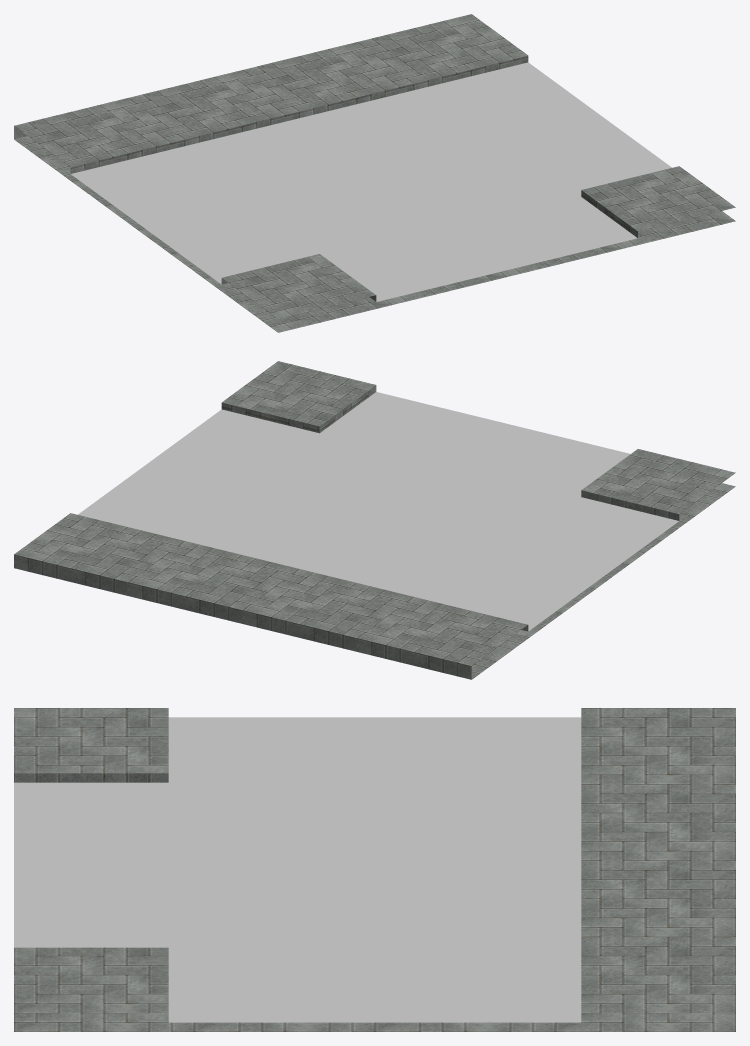
Rendered from IntersectionT.fbx.
3 views of the same model, one above another, from view 1: azimuth 30°, elevation 25°; view 2: azimuth 150°, elevation 25°; view 3: azimuth 270°, elevation 25° (orthographic). The views are drawn at different scales.
Parts seen in each view (by area): view 1: Plane; view 2: Plane; view 3: Plane.
Part boxes in pixels (<box>): Plane: <box>14,14,735,332</box>; Plane: <box>14,361,735,679</box>; Plane: <box>14,708,735,1031</box>.
Size of the model in its own units: 1400 by 40 by 1400.
